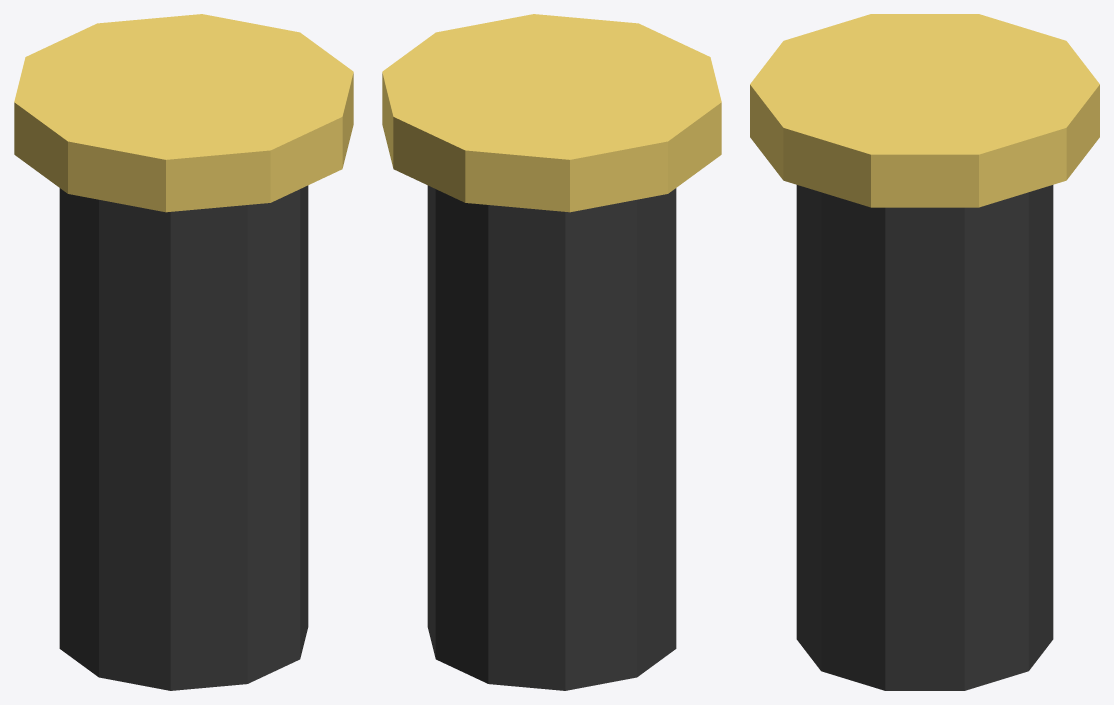
3 views of the same model, side by side, from view 1: azimuth 30°, elevation 25°; view 2: azimuth 150°, elevation 25°; view 3: azimuth 270°, elevation 25° (orthographic).
Visible parts, largest first — view 1: Mooring post, Cap; view 2: Mooring post, Cap; view 3: Mooring post, Cap.
Part boxes in pixels (<box>): Mooring post: <box>59,185,308,690</box>; Cap: <box>14,14,353,212</box>; Mooring post: <box>427,185,676,690</box>; Cap: <box>382,14,721,212</box>; Mooring post: <box>796,185,1053,690</box>; Cap: <box>750,14,1099,207</box>.
Size of the model in its own units: 0.2853 by 0.525 by 0.3.
1 material, 1 textured.
